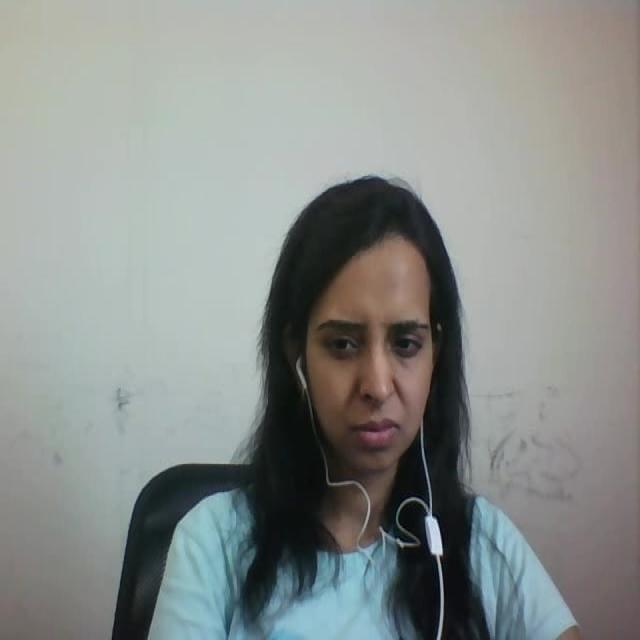Engaged: (244, 171, 500, 472)
